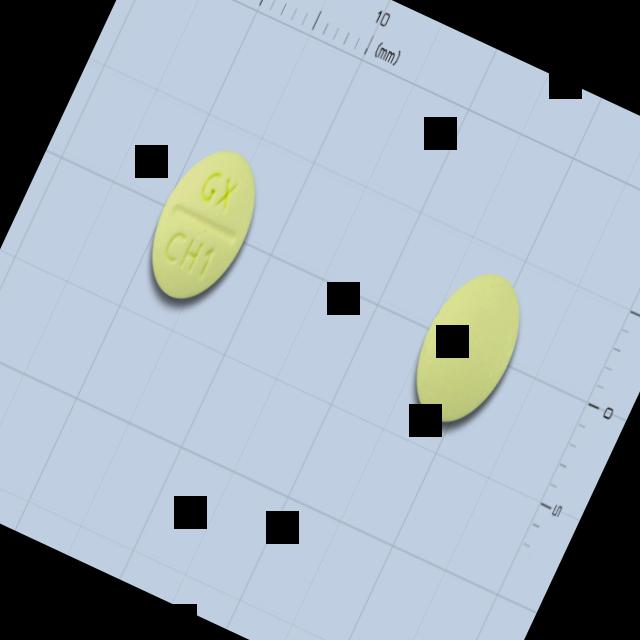Imuran: (130, 133, 278, 315)
